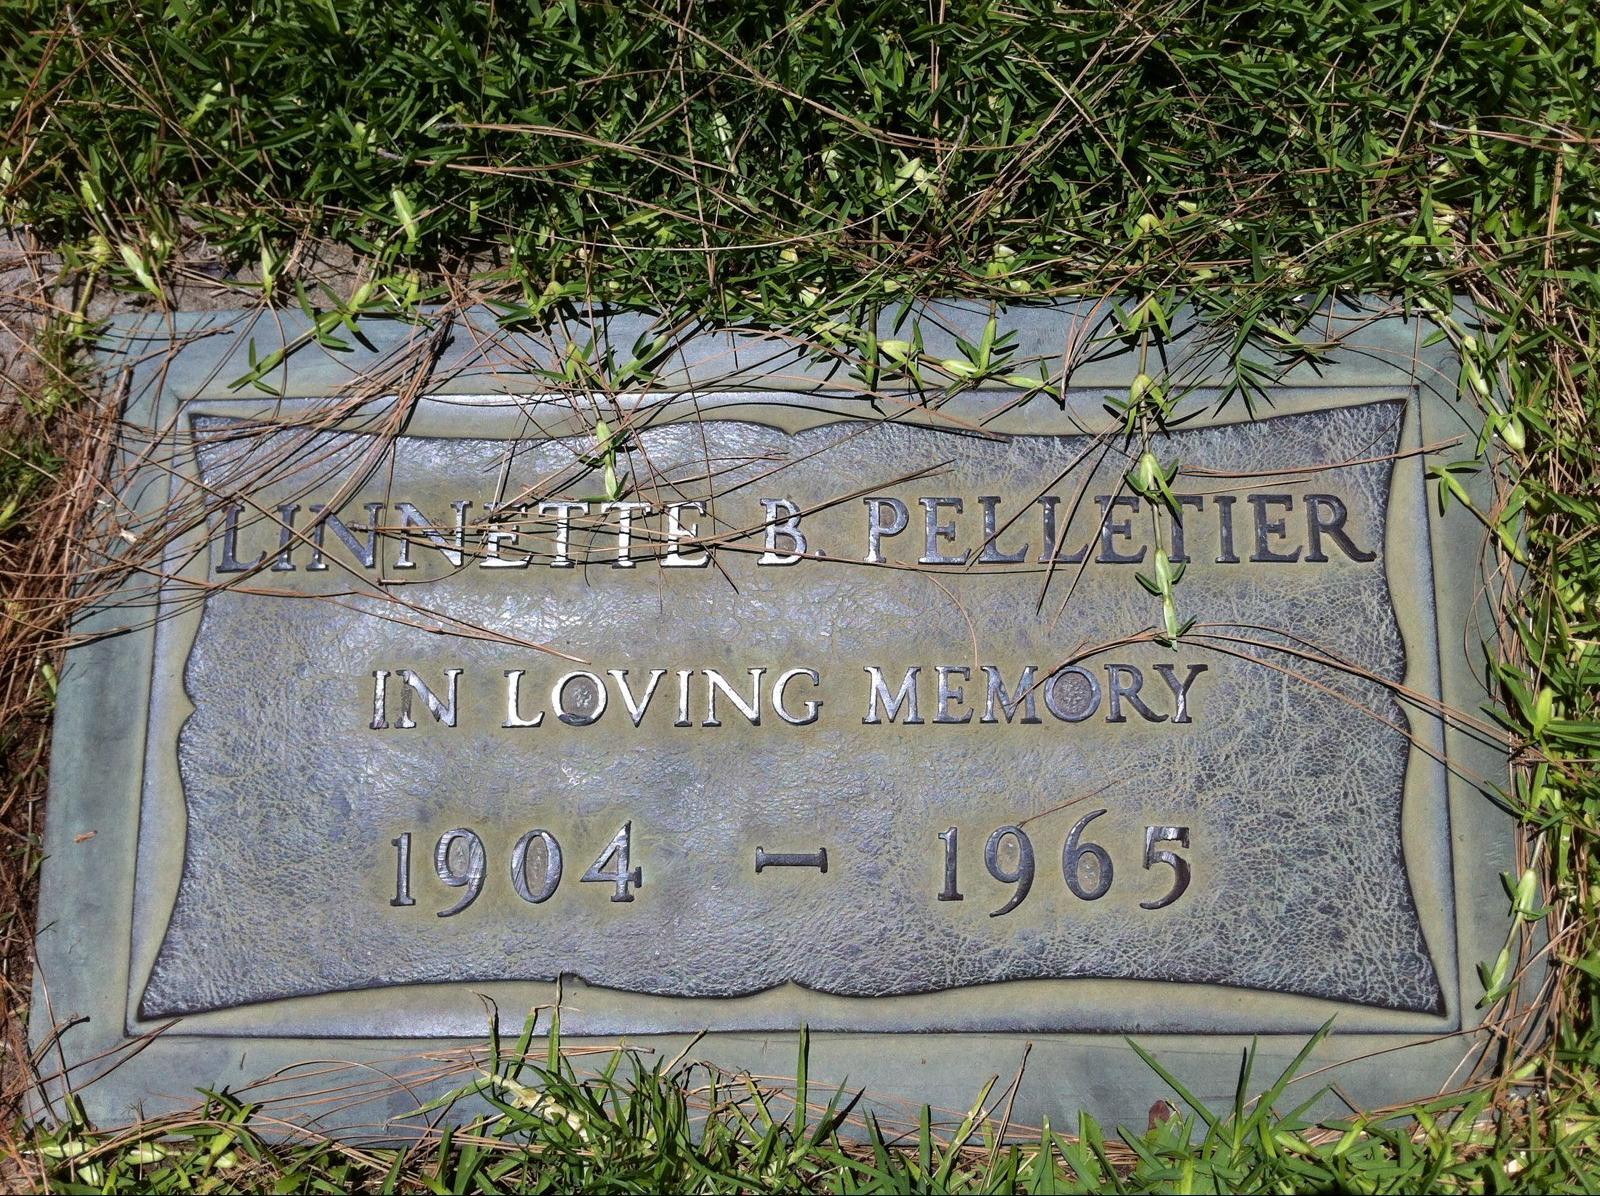flat: (49, 266, 1566, 1155)
